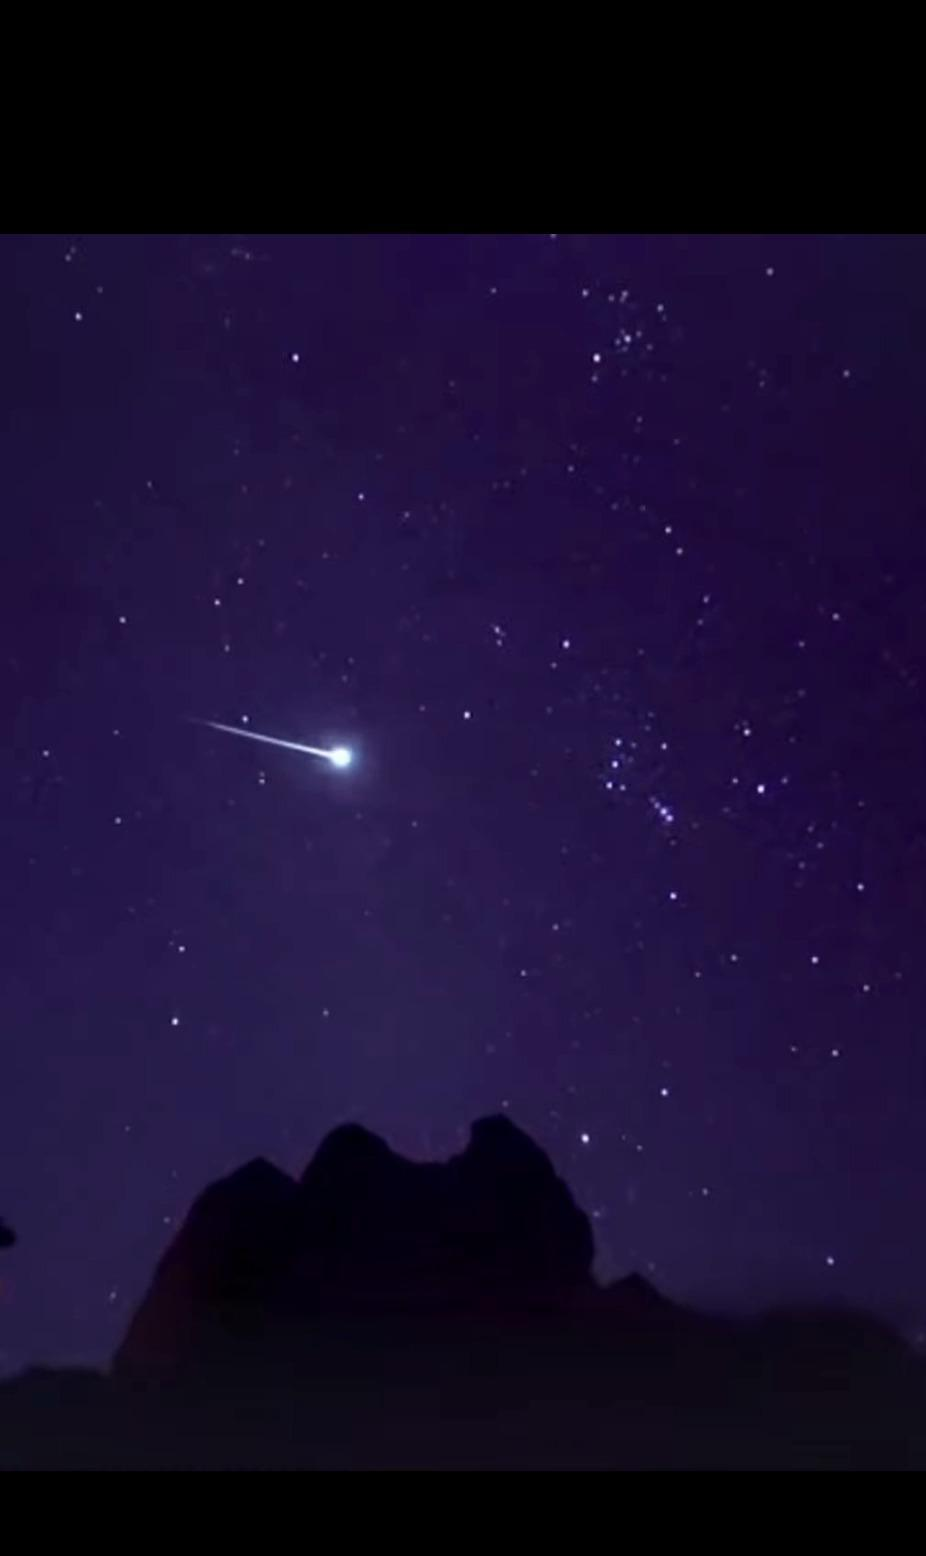meteorite: (193, 705, 378, 776)
